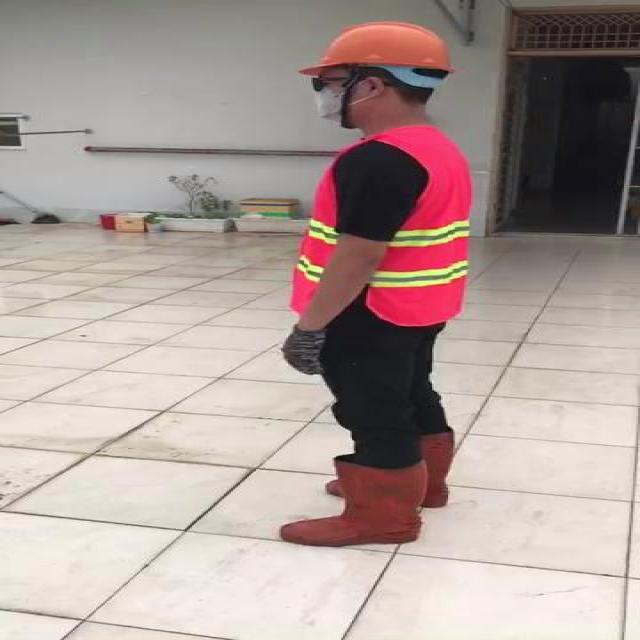boots: (282, 454, 428, 547)
face_mask: (299, 72, 361, 122)
hand_glove: (278, 325, 337, 376)
head_helmet: (297, 21, 453, 78)
person: (267, 19, 480, 557)
vest: (277, 127, 473, 327)
